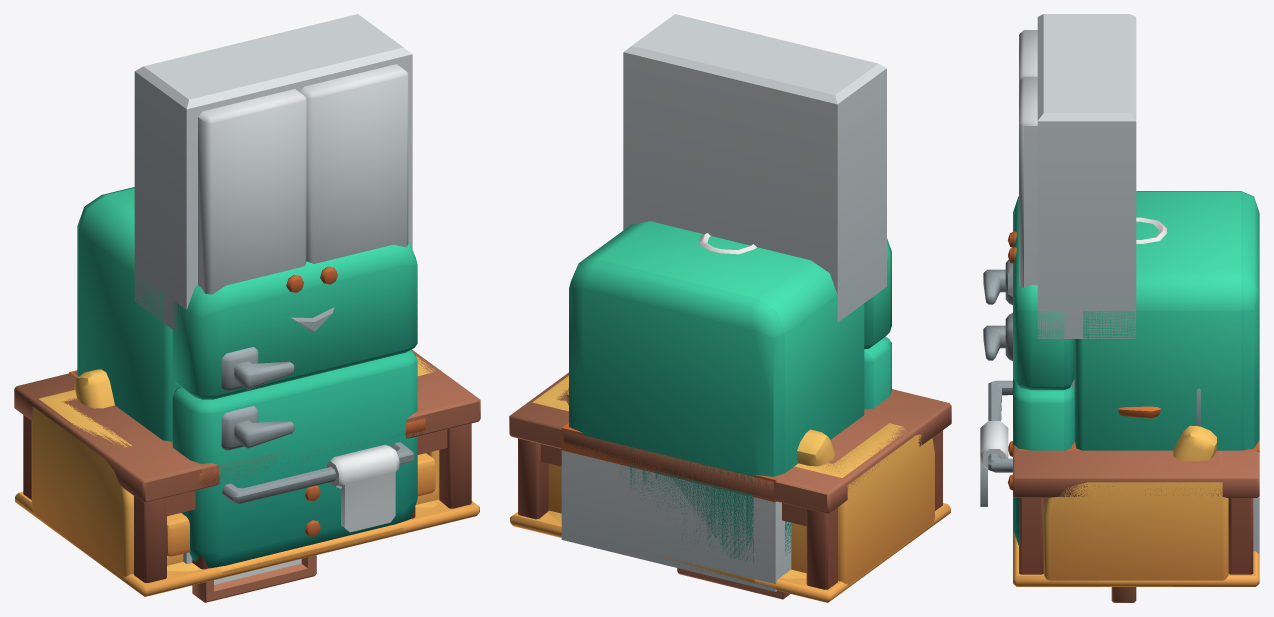
Rendered from office.glb.
3 views of the same model, side by side, from view 1: azimuth 30°, elevation 25°; view 2: azimuth 150°, elevation 25°; view 3: azimuth 270°, elevation 25° (orthographic). The views are drawn at different scales.
Visible parts, largest first — view 1: kitchencabinet, fridge_A_door_bottom, fridge_A_door_top, table_medium_long, fridge_A, couch_pillows, kitchencounter_straight_A_decorated, rug_rectangle_stripes_A, pictureframe_large_A, rug_oval_A, table_medium; view 2: fridge_A, kitchencabinet, kitchencounter_straight_A_decorated, table_medium_long, couch_pillows, table_medium, rug_rectangle_stripes_A, fridge_A_door_bottom, fridge_A_door_top, pictureframe_large_A, rug_oval_A; view 3: fridge_A, kitchencabinet, couch_pillows, table_medium_long, fridge_A_door_top, fridge_A_door_bottom, kitchencounter_straight_A_decorated, rug_rectangle_stripes_A, rug_oval_A, cabinet_medium_decorated, pictureframe_large_A.
Part boxes in pixels (box(x1,y1,x2,y2)): kitchencabinet: box(134, 14, 412, 334); fridge_A_door_bottom: box(172, 350, 417, 568); fridge_A_door_top: box(172, 241, 417, 399); table_medium_long: box(14, 349, 480, 582); fridge_A: box(77, 187, 179, 441); couch_pillows: box(31, 356, 439, 578); kitchencounter_straight_A_decorated: box(69, 370, 425, 563); rug_rectangle_stripes_A: box(15, 491, 479, 596); pictureframe_large_A: box(192, 555, 316, 602); rug_oval_A: box(60, 499, 440, 573); table_medium: box(73, 371, 423, 569); fridge_A: box(569, 221, 864, 563); kitchencabinet: box(623, 14, 886, 322); kitchencounter_straight_A_decorated: box(561, 423, 791, 591); table_medium_long: box(509, 372, 951, 589); couch_pillows: box(532, 376, 934, 585); table_medium: box(563, 389, 895, 499); rug_rectangle_stripes_A: box(510, 503, 950, 602); fridge_A_door_bottom: box(864, 337, 891, 409); fridge_A_door_top: box(864, 238, 891, 349); pictureframe_large_A: box(677, 568, 789, 599); rug_oval_A: box(548, 510, 909, 583); fridge_A: box(1074, 191, 1259, 450); kitchencabinet: box(1008, 14, 1136, 338); couch_pillows: box(1043, 425, 1228, 580); table_medium_long: box(1013, 445, 1259, 574); fridge_A_door_top: box(983, 196, 1074, 390); fridge_A_door_bottom: box(983, 313, 1074, 544); kitchencounter_straight_A_decorated: box(980, 379, 1259, 554); rug_rectangle_stripes_A: box(1013, 529, 1259, 586); rug_oval_A: box(1099, 580, 1173, 586); cabinet_medium_decorated: box(1118, 406, 1161, 418); pictureframe_large_A: box(1111, 587, 1136, 602).
Bounding box in the file's own units: 3 × 4.6 × 2.26.
Materials: 19 (19 with a texture image).
